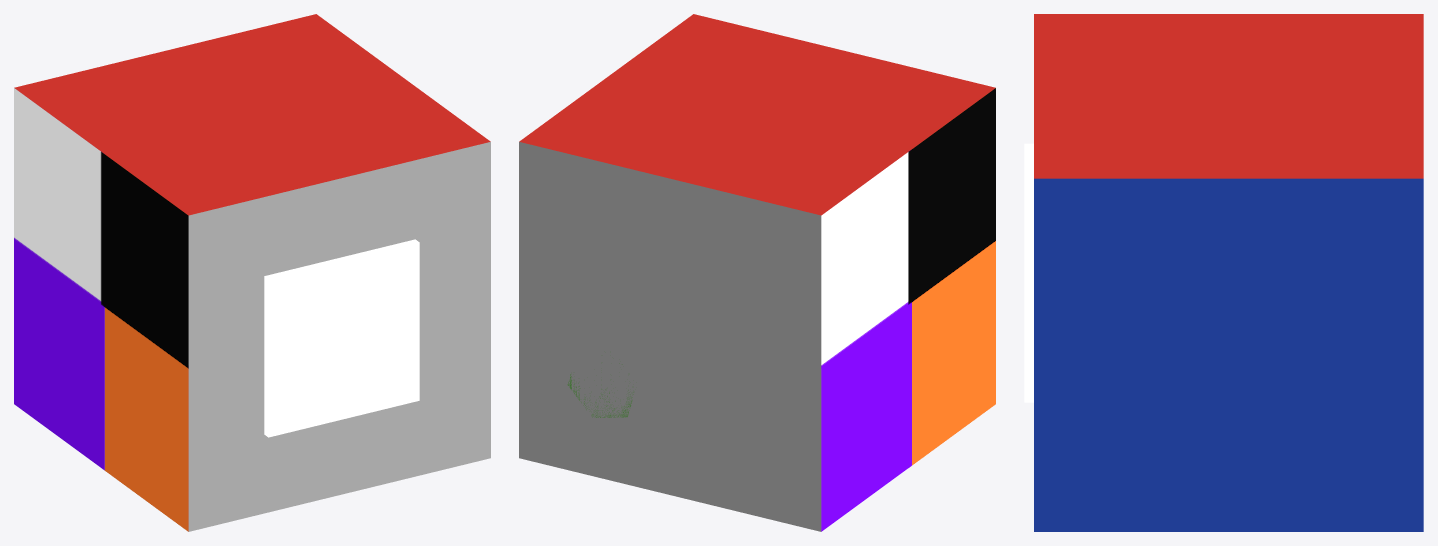
The model's file is auto_export.glb.
3 renders of one model, left to right at view 1: azimuth 30°, elevation 25°; view 2: azimuth 150°, elevation 25°; view 3: azimuth 270°, elevation 25°, orthographic. The views are drawn at different scales.
Parts seen in each view (by area): view 1: Plane.001, Plane.002, Plane.004, LightPlane; view 2: Plane, Plane.002, Plane.004; view 3: Plane.003, Plane.004, LightPlane.
Part boxes in pixels (left/top/right/bottom): Plane.001: left=188, top=142, right=490, bottom=531; Plane.002: left=14, top=88, right=188, bottom=531; Plane.004: left=14, top=14, right=490, bottom=215; LightPlane: left=264, top=239, right=419, bottom=437; Plane: left=519, top=142, right=821, bottom=531; Plane.002: left=821, top=88, right=995, bottom=531; Plane.004: left=519, top=14, right=995, bottom=215; Plane.003: left=1034, top=178, right=1423, bottom=531; Plane.004: left=1034, top=14, right=1423, bottom=178; LightPlane: left=1024, top=143, right=1033, bottom=402.
Size of the model in its own units: 2 by 2 by 2.05.
8 materials, 2 textured.
